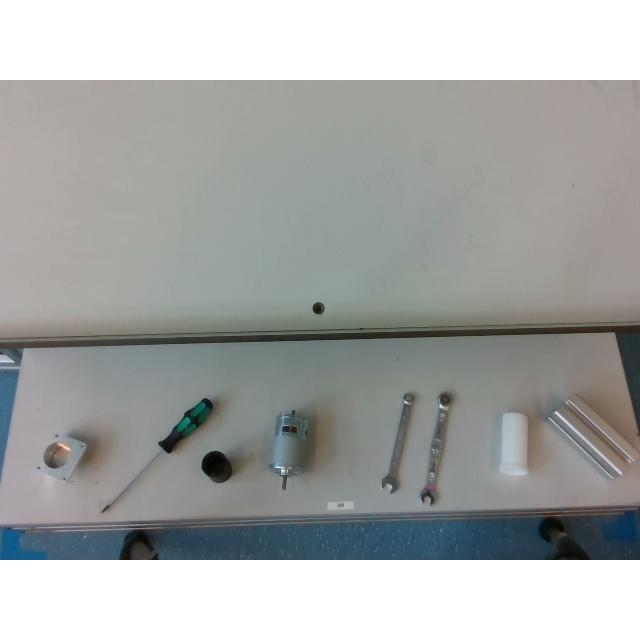Motor2: (268, 410, 308, 490)
S40_40_G: (547, 394, 637, 478)
Screwdriver: (97, 397, 213, 513)
Spacer: (499, 412, 528, 476)
Wrench: (420, 392, 452, 504)
